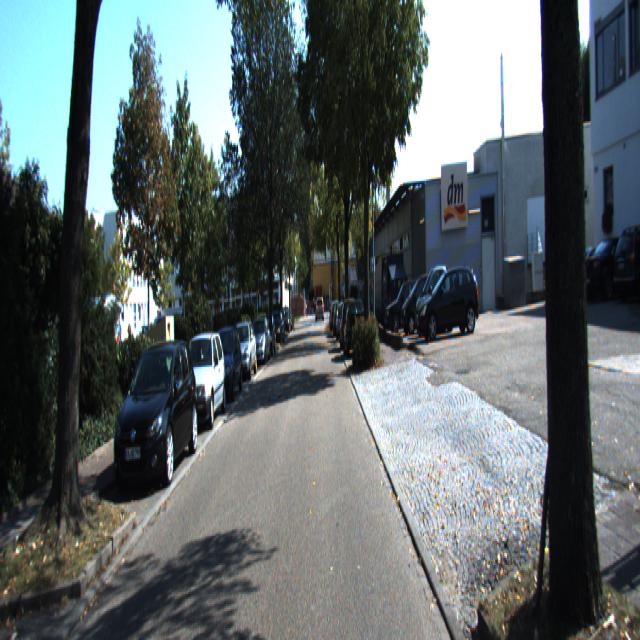Car: (110, 334, 199, 499), (173, 328, 227, 433), (415, 260, 481, 342), (562, 228, 640, 294), (582, 218, 640, 296), (546, 236, 616, 298), (413, 259, 458, 338), (399, 264, 447, 334), (206, 322, 242, 404), (610, 218, 640, 297), (227, 318, 257, 382), (344, 296, 367, 358), (248, 316, 271, 367)
